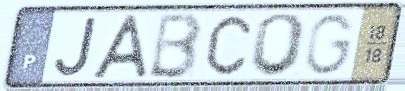A: (88, 12, 151, 81)
B: (145, 10, 205, 81)
C: (204, 13, 254, 77)
G: (303, 12, 359, 77)
J: (53, 15, 100, 79)
O: (246, 11, 310, 79)
